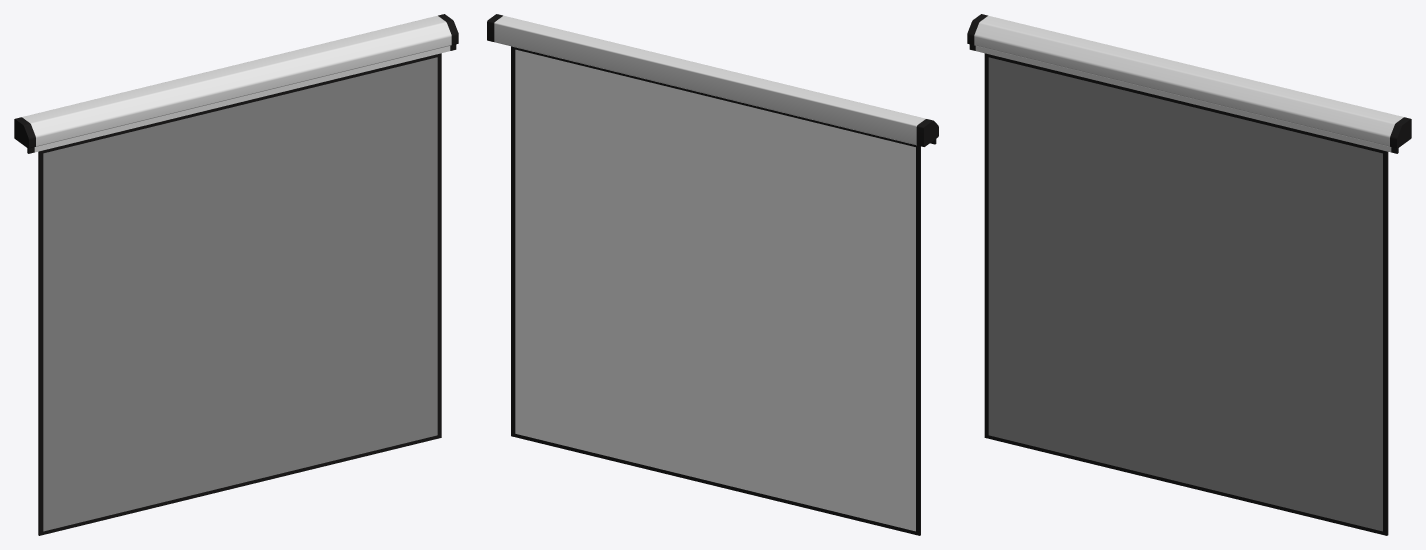
Rendered from Proyector screen.fbx.
3 renders of one model, left to right at view 1: azimuth 30°, elevation 25°; view 2: azimuth 150°, elevation 25°; view 3: azimuth 330°, elevation 25°, orthographic.
Visible parts, largest first — view 1: Proyector screen; view 2: Proyector screen; view 3: Proyector screen.
Boxes of the visible parts, box(x1,y1,x2,y2) form: Proyector screen: box(14, 14, 458, 535); Proyector screen: box(487, 14, 938, 535); Proyector screen: box(967, 14, 1411, 535).
Size of the model in its own units: 332 by 305 by 19.65.
2 materials, 1 textured.
